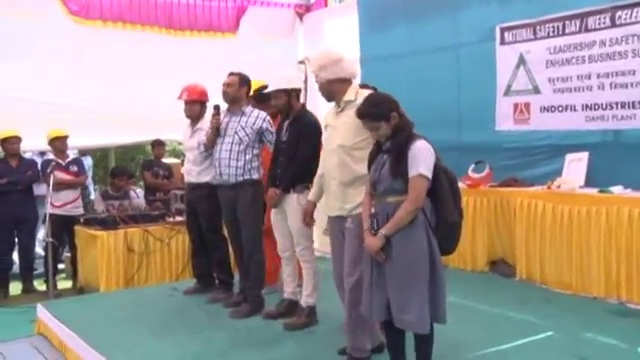helmet: (261, 68, 305, 95), (175, 81, 210, 105), (45, 128, 70, 147), (249, 77, 268, 99), (0, 128, 22, 145)
helmet_off: (350, 88, 404, 149), (304, 44, 356, 96), (217, 73, 251, 111), (108, 167, 135, 192), (148, 139, 167, 162)
helmet_on: (260, 71, 305, 118), (176, 84, 209, 122), (45, 128, 72, 159), (0, 128, 23, 160)
person: (352, 91, 465, 360), (306, 44, 380, 343), (204, 73, 277, 317), (259, 71, 324, 335), (175, 81, 236, 306), (40, 126, 88, 299), (0, 129, 44, 301), (90, 164, 147, 218), (140, 137, 177, 206)
